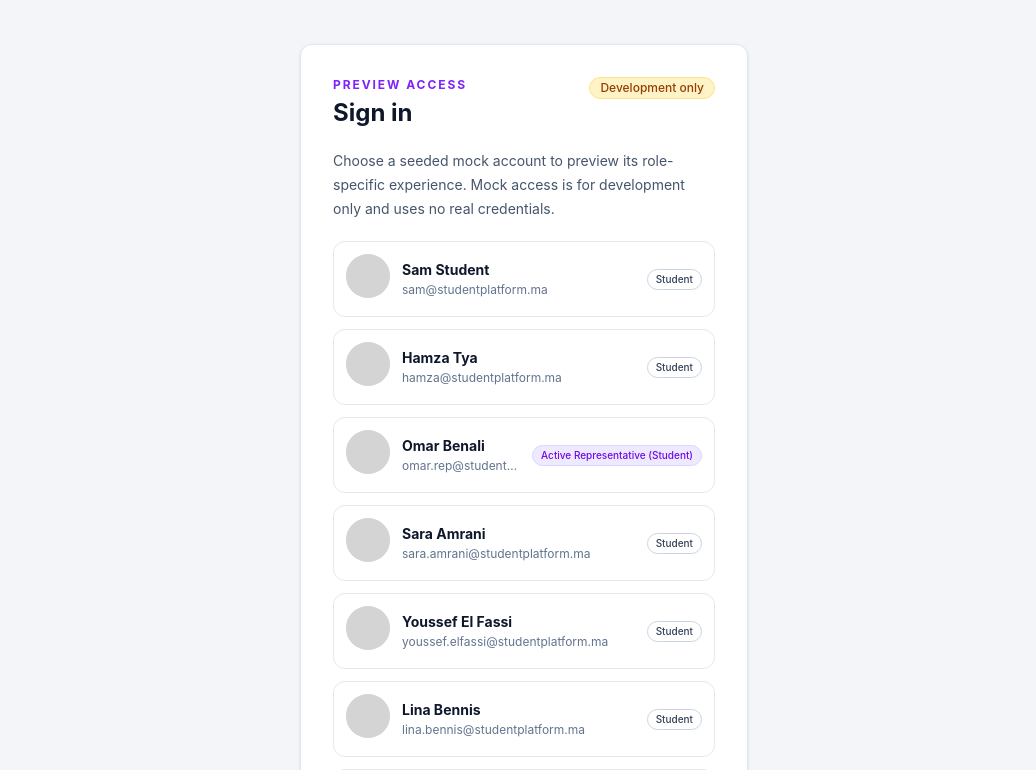
Test case: MockLoginPage › signs in a mock student through AuthContext and opens the feed
Click the button "Sam Student sam@studentplatform.ma Student" at (524, 279), box [333,241,715,317]
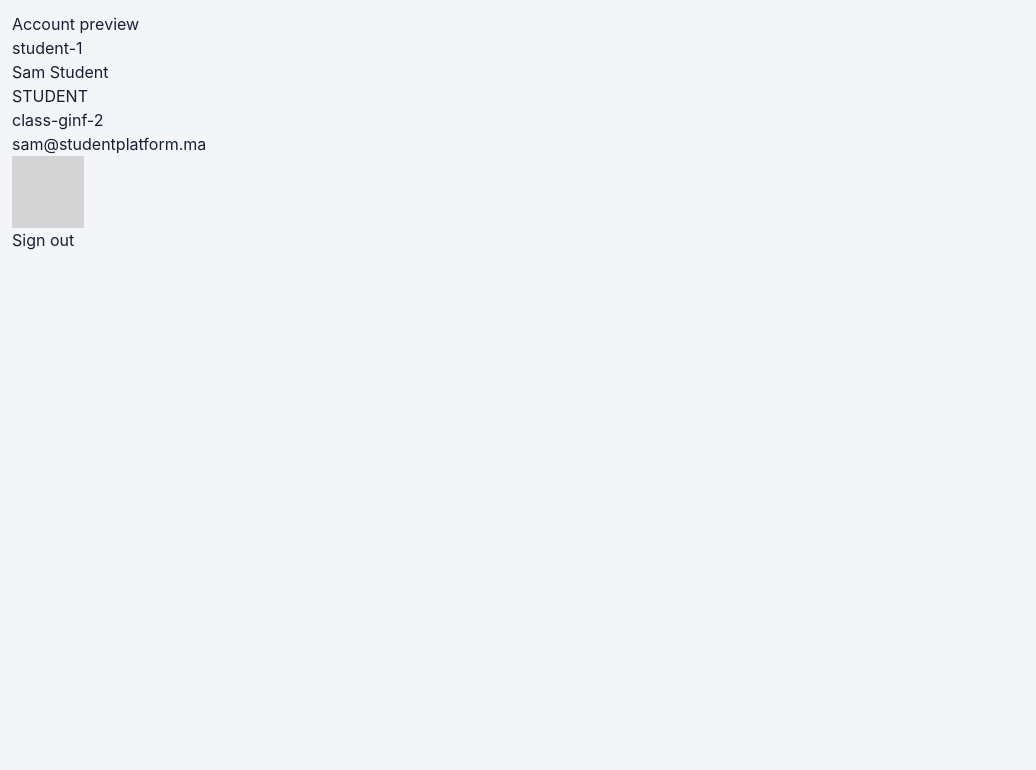
Expected: the heading "Account preview" is shown, [12,14,139,34]
Expected: the text "student-1" is shown, [12,38,82,58]
